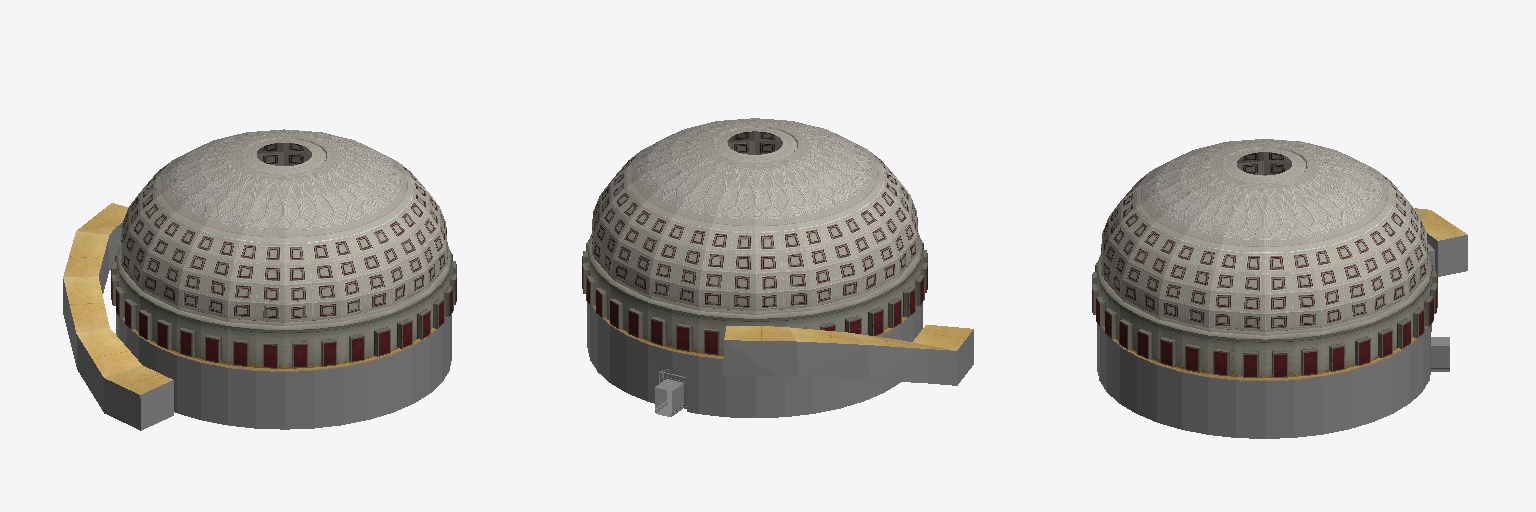
3 renders of one model, left to right at view 1: azimuth 30°, elevation 25°; view 2: azimuth 150°, elevation 25°; view 3: azimuth 270°, elevation 25°, orthographic.
Parts seen in each view (by area): view 1: Object045, Spawn_Wand_Standart_Segment014, Object050, Object049; view 2: Object045, Spawn_Wand_Standart_Segment014, Object049, Object050, Door010; view 3: Object045, Spawn_Wand_Standart_Segment014, Object049, Object050, Door010.
Boxes of the visible parts, x1=… form: Object045: x1=111, y1=129, x2=456, y2=371; Spawn_Wand_Standart_Segment014: x1=116, y1=313, x2=451, y2=429; Object050: x1=63, y1=203, x2=172, y2=394; Object049: x1=63, y1=223, x2=173, y2=430; Object045: x1=582, y1=118, x2=927, y2=358; Spawn_Wand_Standart_Segment014: x1=587, y1=302, x2=922, y2=417; Object049: x1=723, y1=330, x2=973, y2=385; Object050: x1=724, y1=325, x2=973, y2=350; Door010: x1=655, y1=369, x2=686, y2=416; Object045: x1=1092, y1=139, x2=1437, y2=380; Spawn_Wand_Standart_Segment014: x1=1097, y1=324, x2=1431, y2=438; Object049: x1=1427, y1=233, x2=1467, y2=276; Object050: x1=1414, y1=208, x2=1467, y2=240; Door010: x1=1431, y1=337, x2=1449, y2=371.
Bounding box in the file's own units: 38.09 × 21.81 × 36.45.
7 materials, 3 textured.